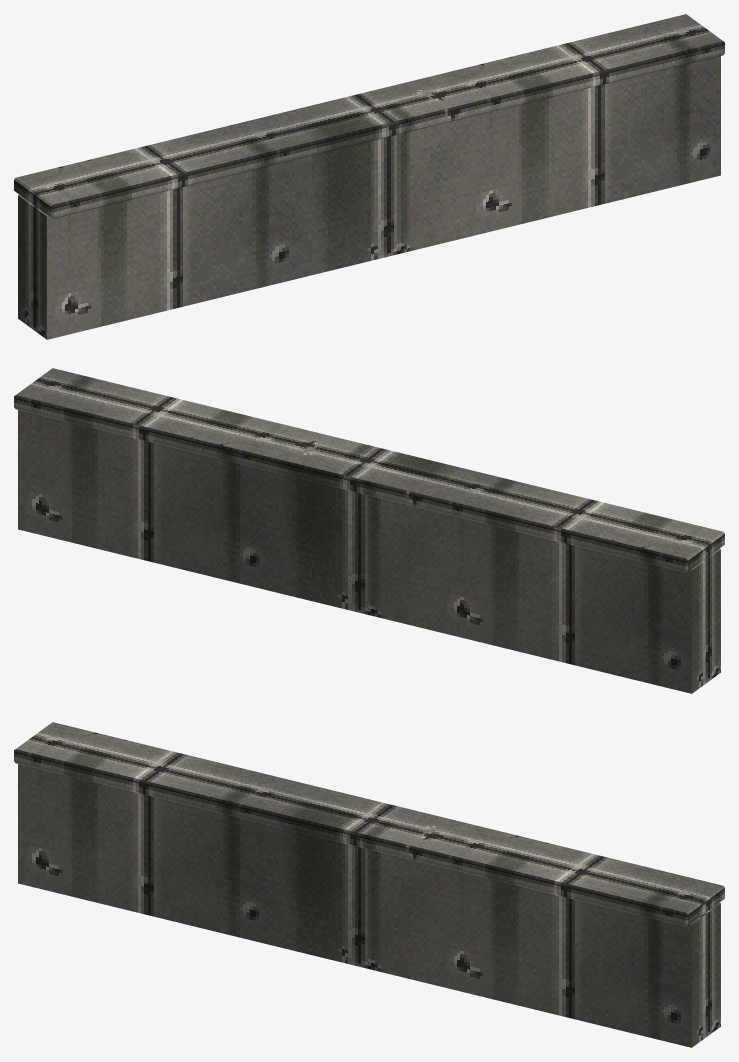
Rendered from parapet_concrete.glb.
3 renders of one model, top to bottom at view 1: azimuth 30°, elevation 25°; view 2: azimuth 150°, elevation 25°; view 3: azimuth 330°, elevation 25°, orthographic.
Visible parts, largest first — view 1: parapet_concrete_mesh; view 2: parapet_concrete_mesh; view 3: parapet_concrete_mesh.
Part boxes in pixels (<box>): parapet_concrete_mesh: <box>14,14,724,339</box>; parapet_concrete_mesh: <box>14,368,724,693</box>; parapet_concrete_mesh: <box>14,722,724,1047</box>.
Size of what is drawn, in the model's own units: 4 by 0.78 by 0.4.
Materials: 1 (1 with a texture image).
